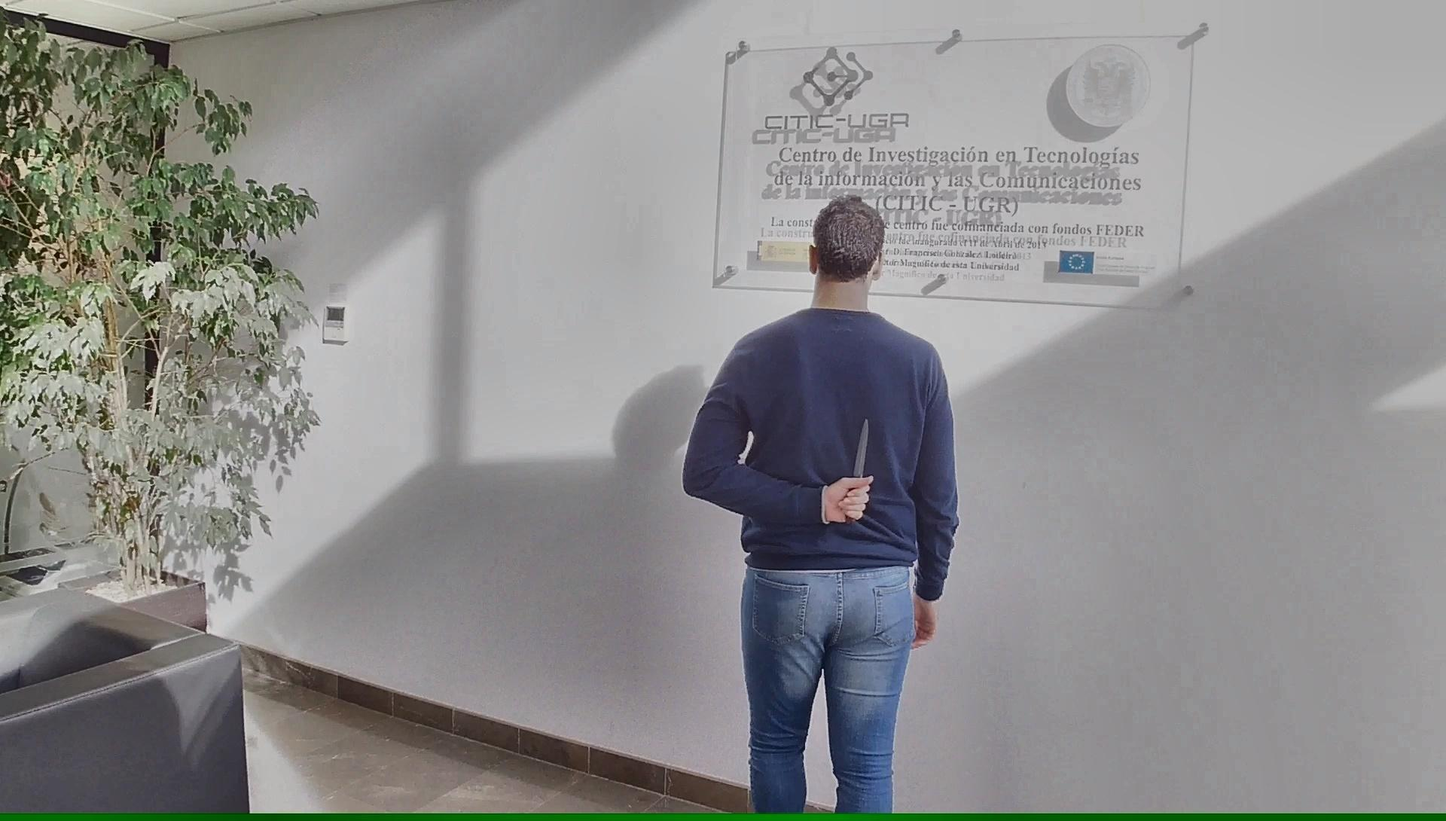Knife: (838, 410, 878, 532)
